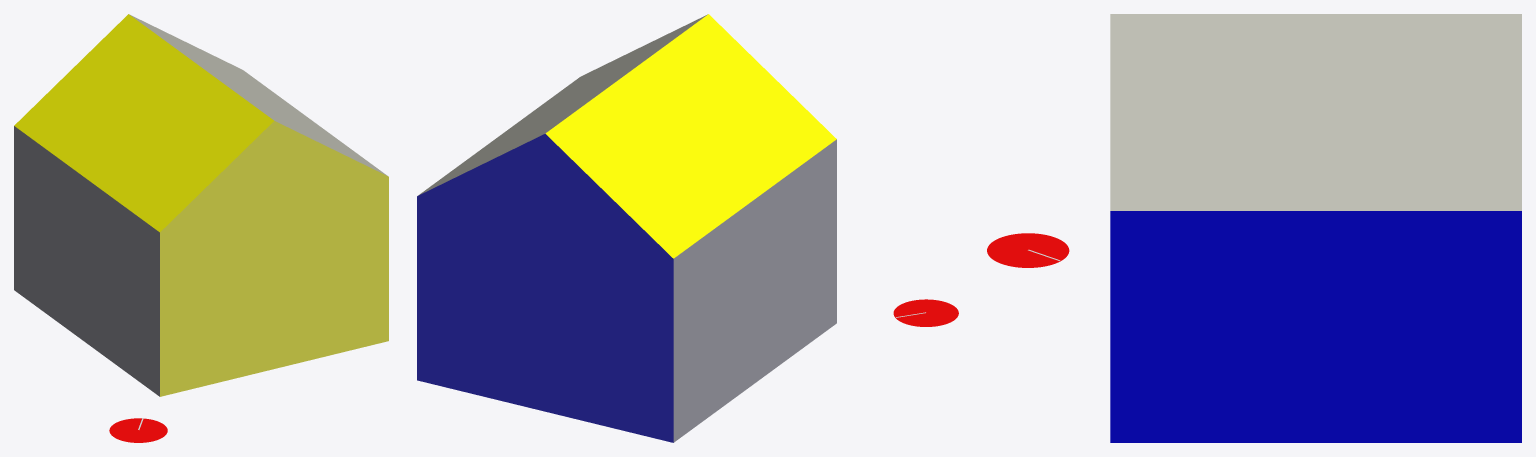
File: result.glb
3 renders of one model, left to right at view 1: azimuth 30°, elevation 25°; view 2: azimuth 150°, elevation 25°; view 3: azimuth 270°, elevation 25°, orthographic. The views are drawn at different scales.
Parts seen in each view (by area): view 1: 4c92c45f-391c-4c1c-8f42-67a78a942537__undefined, ed799888-4a5a-42ab-ab6c-4297f875f5c4__undefined, 95cde6ea-f255-47dd-81be-77d6d8bbd170__undefined, 93fbc3fc-124a-4926-8b06-c83217ee642c__undefined, 1d27a6be-5b92-4ee5-8b64-4b98973b8de2__Circle; view 2: 55de50f5-1839-4404-a5e3-ac664a92a1fe__undefined, ed799888-4a5a-42ab-ab6c-4297f875f5c4__undefined, 95cde6ea-f255-47dd-81be-77d6d8bbd170__undefined, 93fbc3fc-124a-4926-8b06-c83217ee642c__undefined, 1d27a6be-5b92-4ee5-8b64-4b98973b8de2__Circle; view 3: ff86cac6-891b-4ed6-bb2f-b7800dca85a8__undefined, 93fbc3fc-124a-4926-8b06-c83217ee642c__undefined, 1d27a6be-5b92-4ee5-8b64-4b98973b8de2__Circle.
Part boxes in pixels (bbox=[...]): 4c92c45f-391c-4c1c-8f42-67a78a942537__undefined: bbox=[160, 121, 388, 396]; ed799888-4a5a-42ab-ab6c-4297f875f5c4__undefined: bbox=[14, 14, 273, 232]; 95cde6ea-f255-47dd-81be-77d6d8bbd170__undefined: bbox=[14, 126, 159, 396]; 93fbc3fc-124a-4926-8b06-c83217ee642c__undefined: bbox=[129, 14, 387, 175]; 1d27a6be-5b92-4ee5-8b64-4b98973b8de2__Circle: bbox=[109, 418, 167, 442]; 55de50f5-1839-4404-a5e3-ac664a92a1fe__undefined: bbox=[417, 133, 673, 442]; ed799888-4a5a-42ab-ab6c-4297f875f5c4__undefined: bbox=[545, 14, 836, 258]; 95cde6ea-f255-47dd-81be-77d6d8bbd170__undefined: bbox=[673, 139, 836, 442]; 93fbc3fc-124a-4926-8b06-c83217ee642c__undefined: bbox=[418, 14, 707, 195]; 1d27a6be-5b92-4ee5-8b64-4b98973b8de2__Circle: bbox=[893, 299, 958, 326]; ff86cac6-891b-4ed6-bb2f-b7800dca85a8__undefined: bbox=[1110, 211, 1521, 442]; 93fbc3fc-124a-4926-8b06-c83217ee642c__undefined: bbox=[1110, 14, 1521, 210]; 1d27a6be-5b92-4ee5-8b64-4b98973b8de2__Circle: bbox=[987, 233, 1069, 267].
Bounding box in the file's own units: 603 × 469 × 650.
